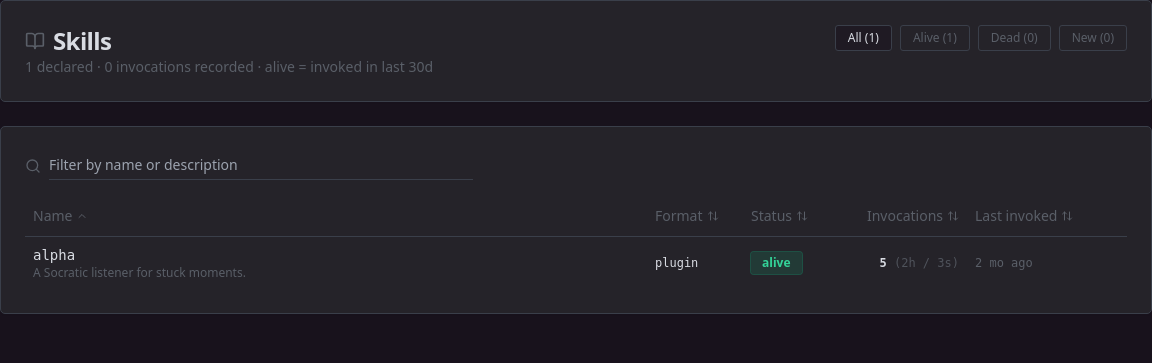
Test: SkillsPage › renders 'No skills match' when filter+search yield empty
Expected: the row with test id "skill-row-alpha" is shown, [25,236,1127,288]
Step 1. Click the button with test id "filter-dead" → x=1014, y=38, box [978,25,1051,51]
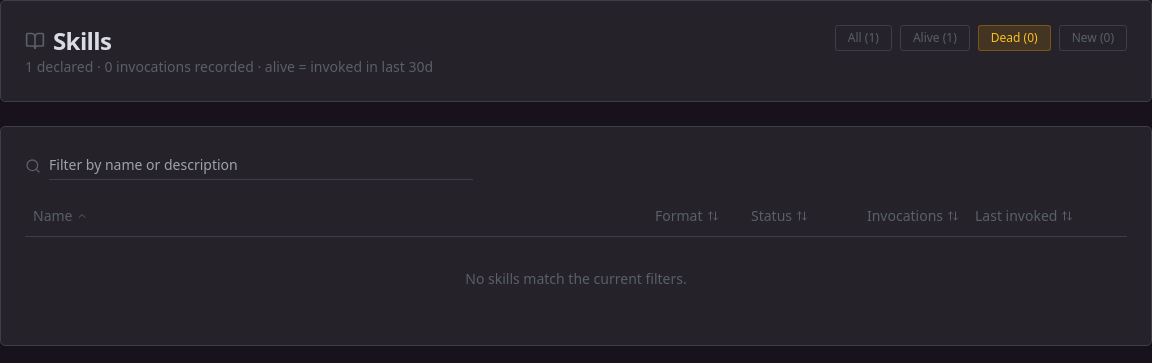
Result: the text "No skills match the current filters." is shown at [25,236,1127,320]
